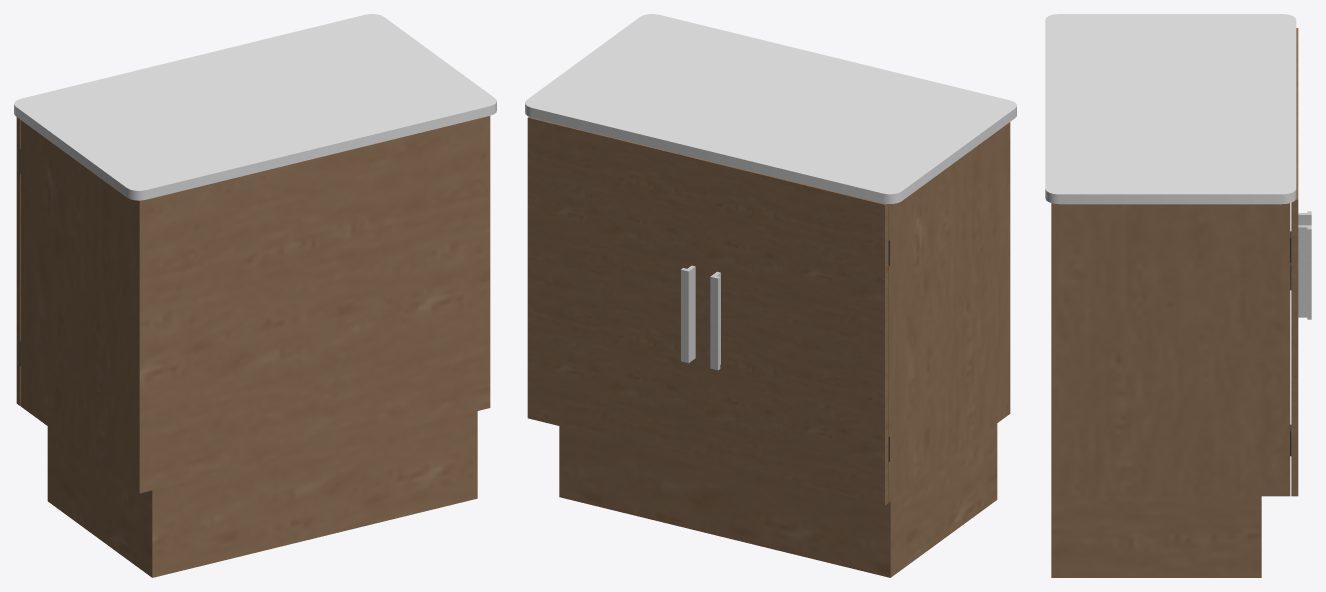
File: BathroomVanity02.fbx
The picture shows the model from 3 angles, left to right: view 1: azimuth 30°, elevation 25°; view 2: azimuth 150°, elevation 25°; view 3: azimuth 270°, elevation 25°; orthographic projection.
Parts seen in each view (by area): view 1: BathroomVanity02, BathroomVanity02DoorR; view 2: BathroomVanity02, BathroomVanity02DoorR, BathroomVanity02DoorL; view 3: BathroomVanity02, BathroomVanity02DoorL, BathroomVanity02DoorR.
Part boxes in pixels (x1,y1,x2,y2): BathroomVanity02: (14,14,496,577); BathroomVanity02DoorR: (16,117,20,405); BathroomVanity02: (525,14,1016,577); BathroomVanity02DoorR: (706,160,889,505); BathroomVanity02DoorL: (527,117,706,461); BathroomVanity02: (1045,14,1296,577); BathroomVanity02DoorL: (1290,114,1311,496); BathroomVanity02DoorR: (1290,28,1311,289).
Bounding box in the file's own units: 78.46 × 79.89 × 48.94.
